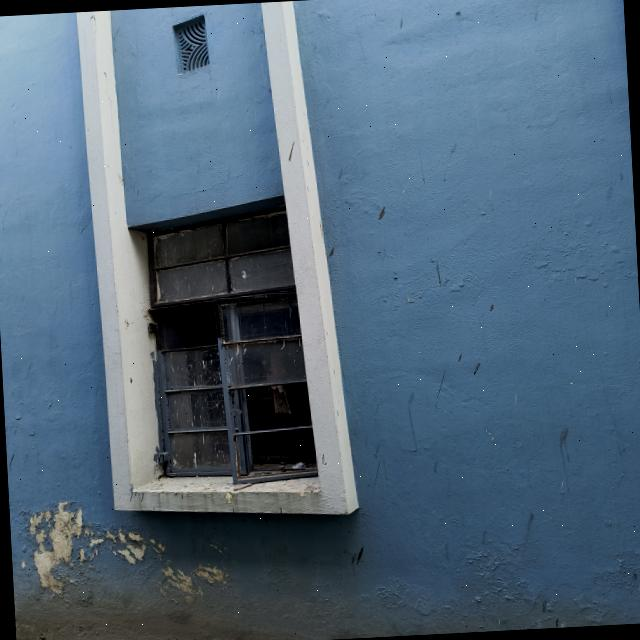peeling: (24, 501, 230, 604)
